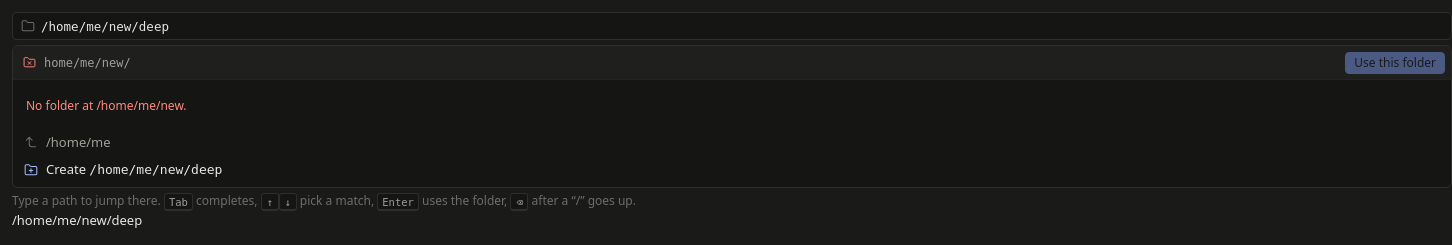
Scenario: FolderPicker, with a list function › creates a missing folder with its parents and browses into it
The width and height of the screenshot is (1452, 245).
Click the element titled "Create this folder and any missing parent folders" at (123, 170), box [24,160,222,178]
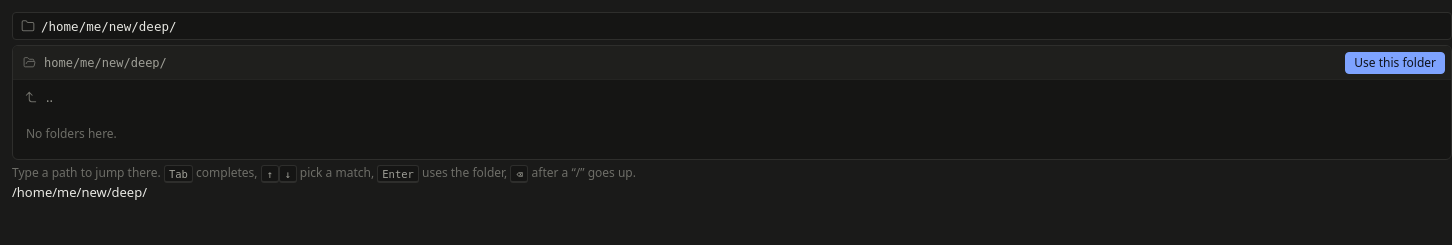
Check: the text with test id "value" reads "/home/me/new/deep/", box [12,183,147,201]
Check: the text "No folders here." is shown, box [26,125,117,142]
